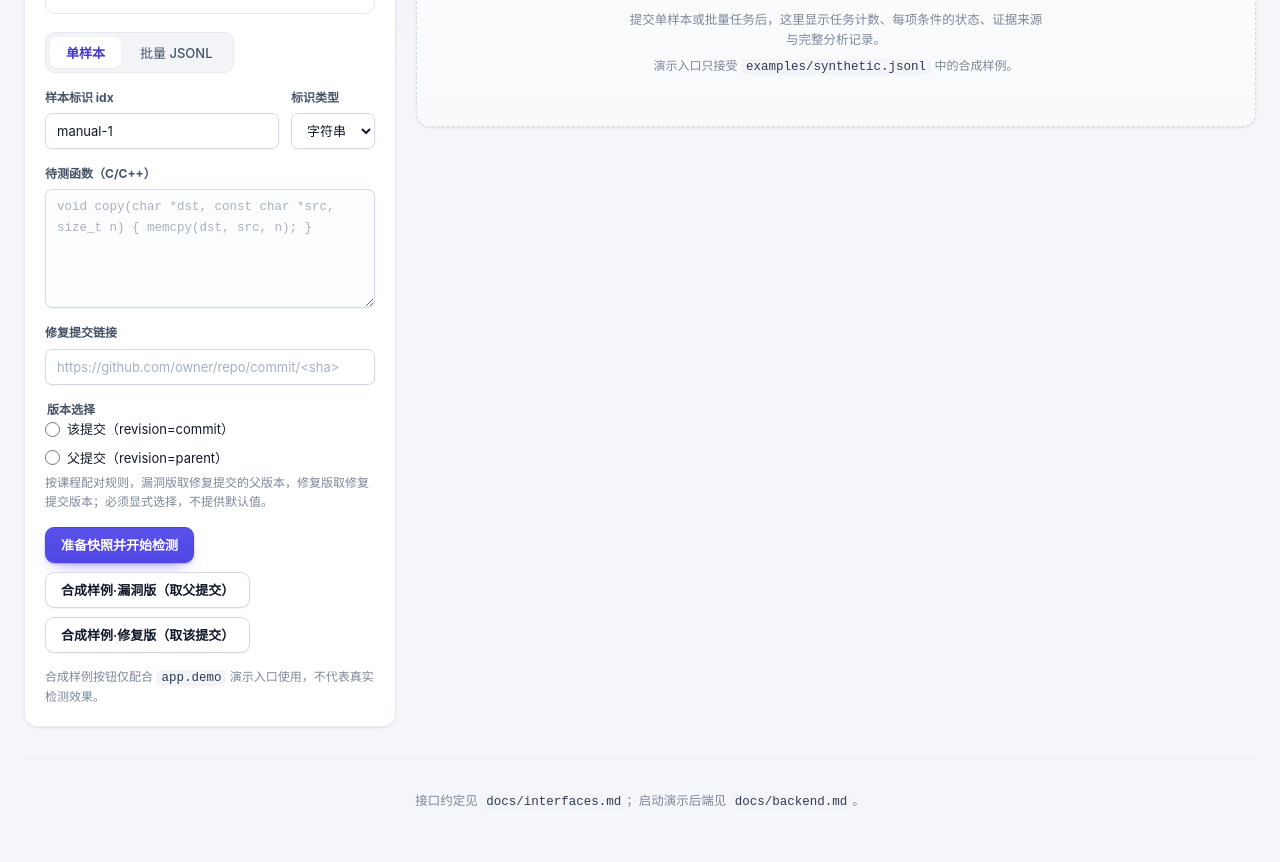
Test: App 失败与导出 › 导出不完整时展示后端返回的原因
The image size is (1280, 862).
(page scrolled)
Click the button "合成样例·漏洞版（取父提交）" at (148, 590), box [45,572,250,608]
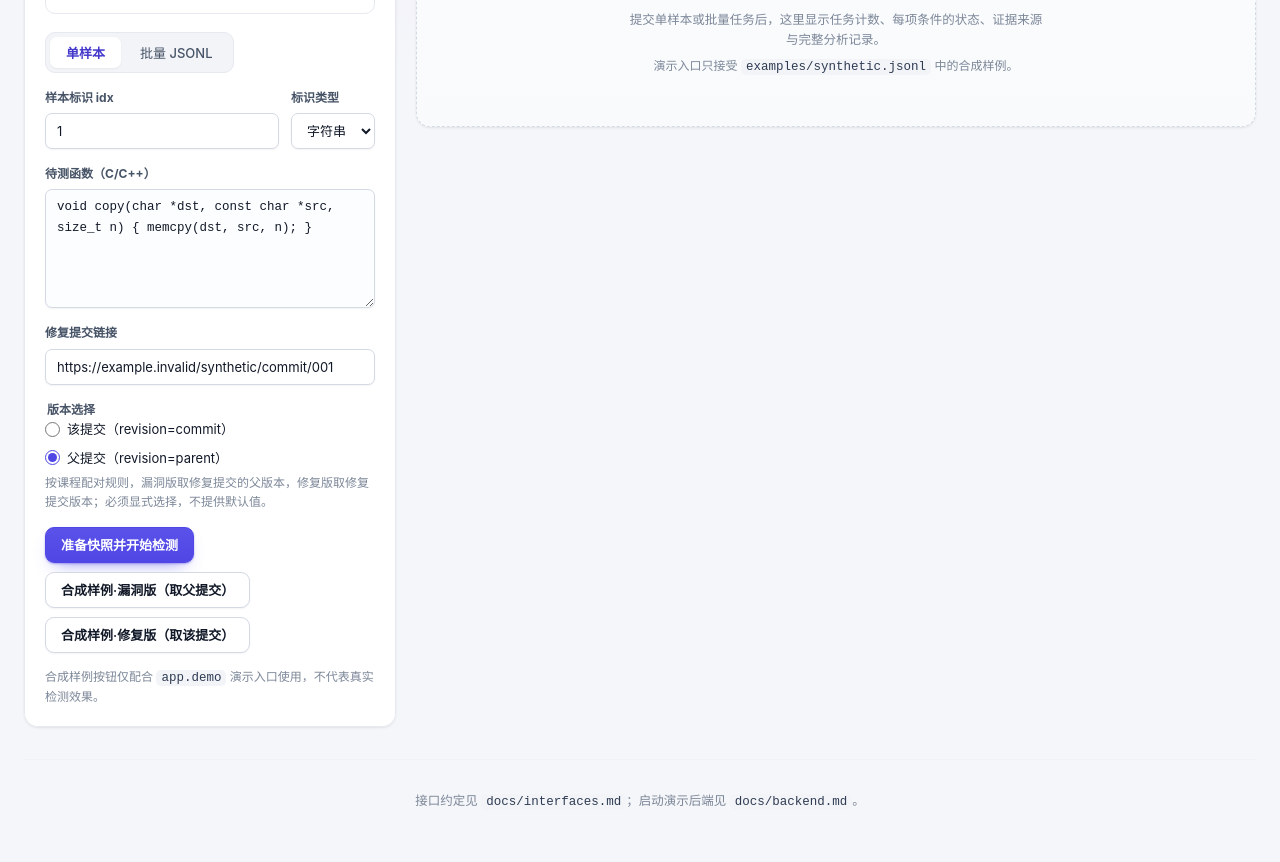
Click the button "准备快照并开始检测" at (120, 545), box [45,527,194,563]
(page scrolled)
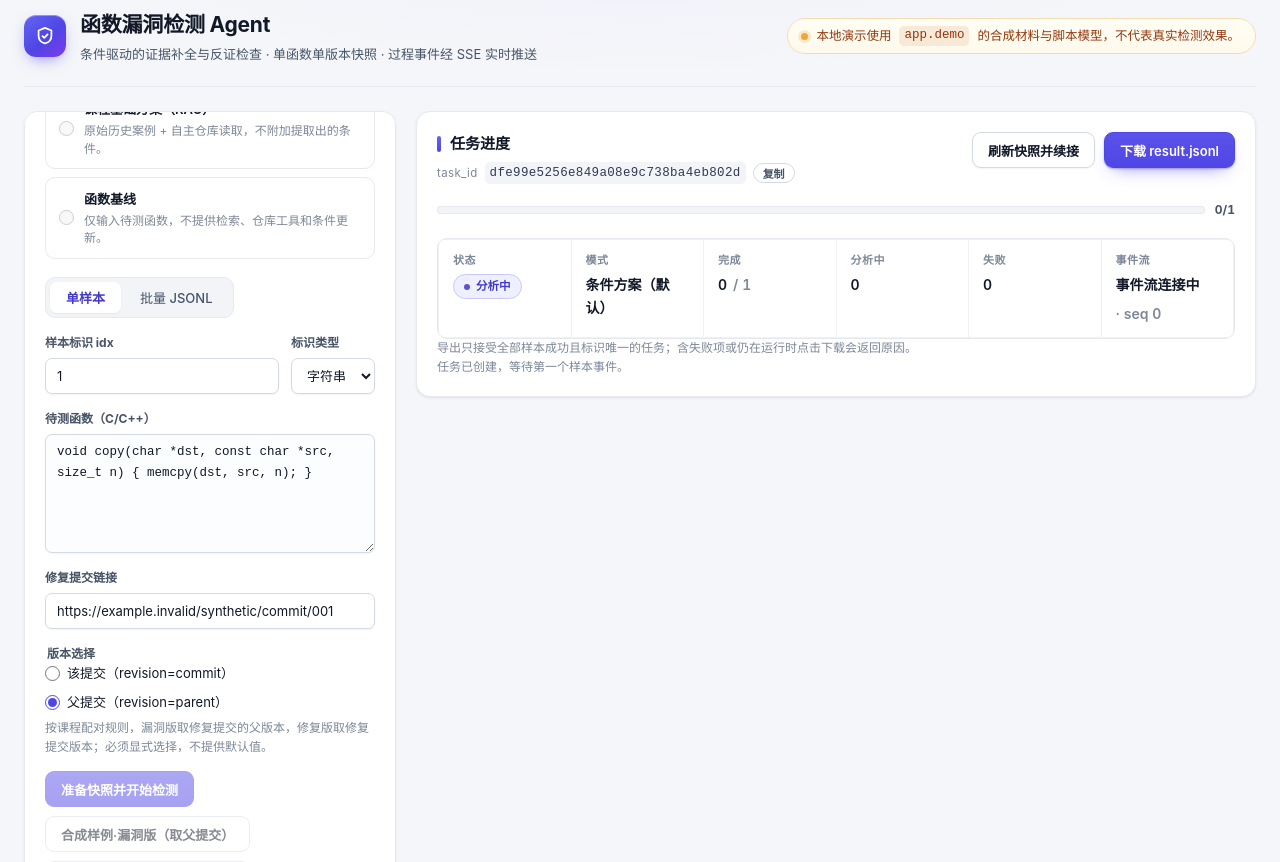
Click the button "下载 result.jsonl" at (1169, 150), box [1104,132,1235,168]
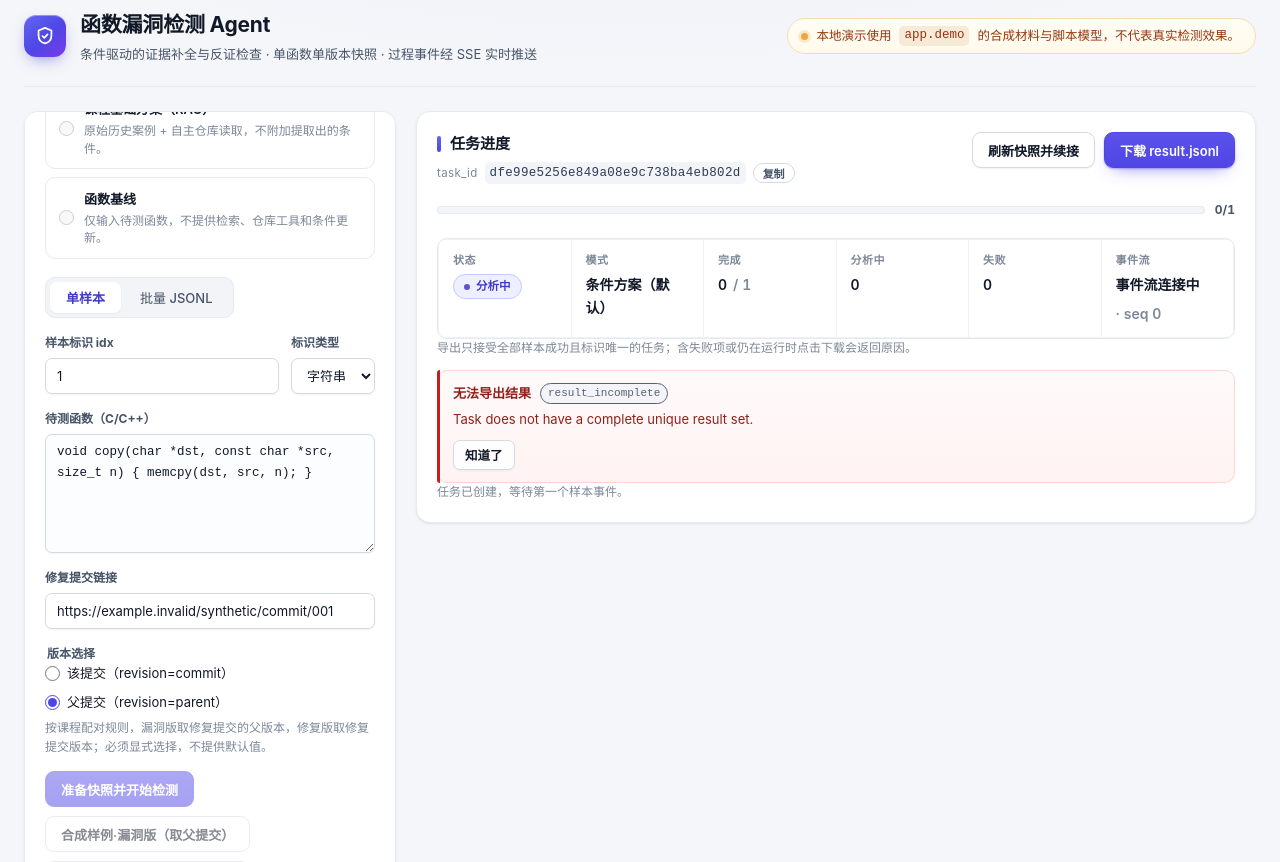
Now the text "result_incomplete" is shown, box [540,382,668,404]
Now the text "Task does not have a complete unique result set." is shown, box [453,411,753,427]
